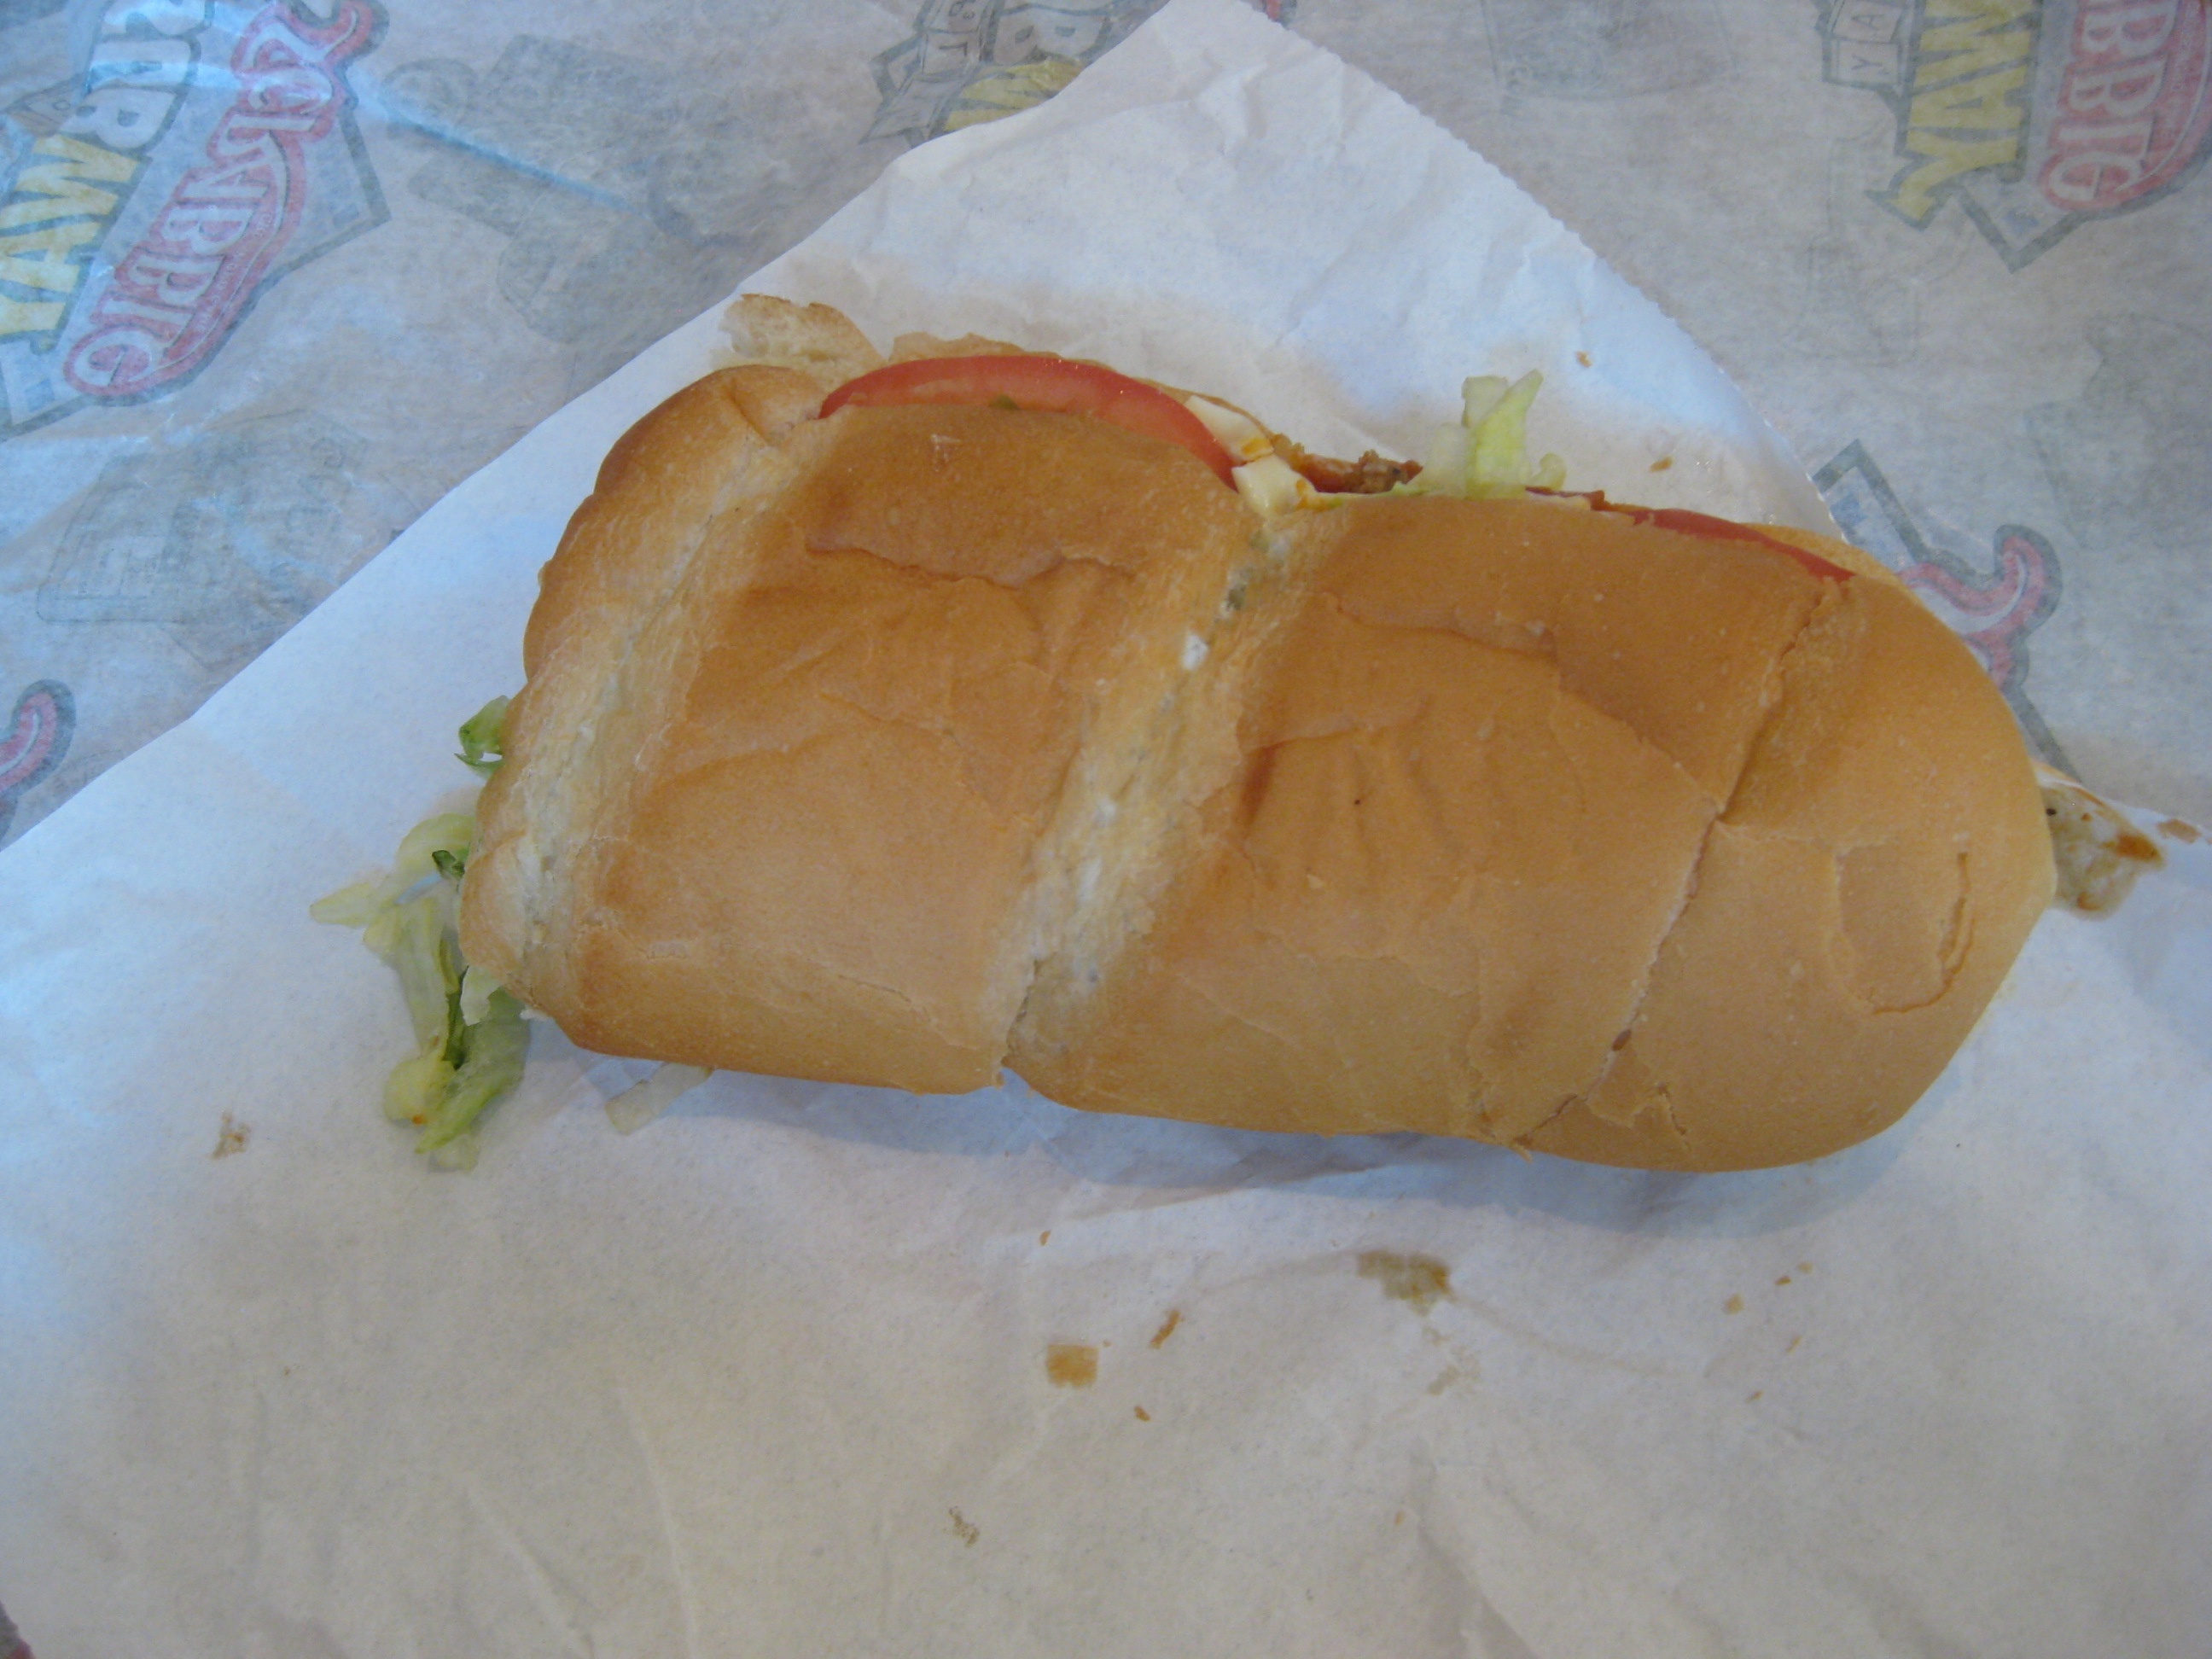sub: (471, 306, 2094, 1235)
